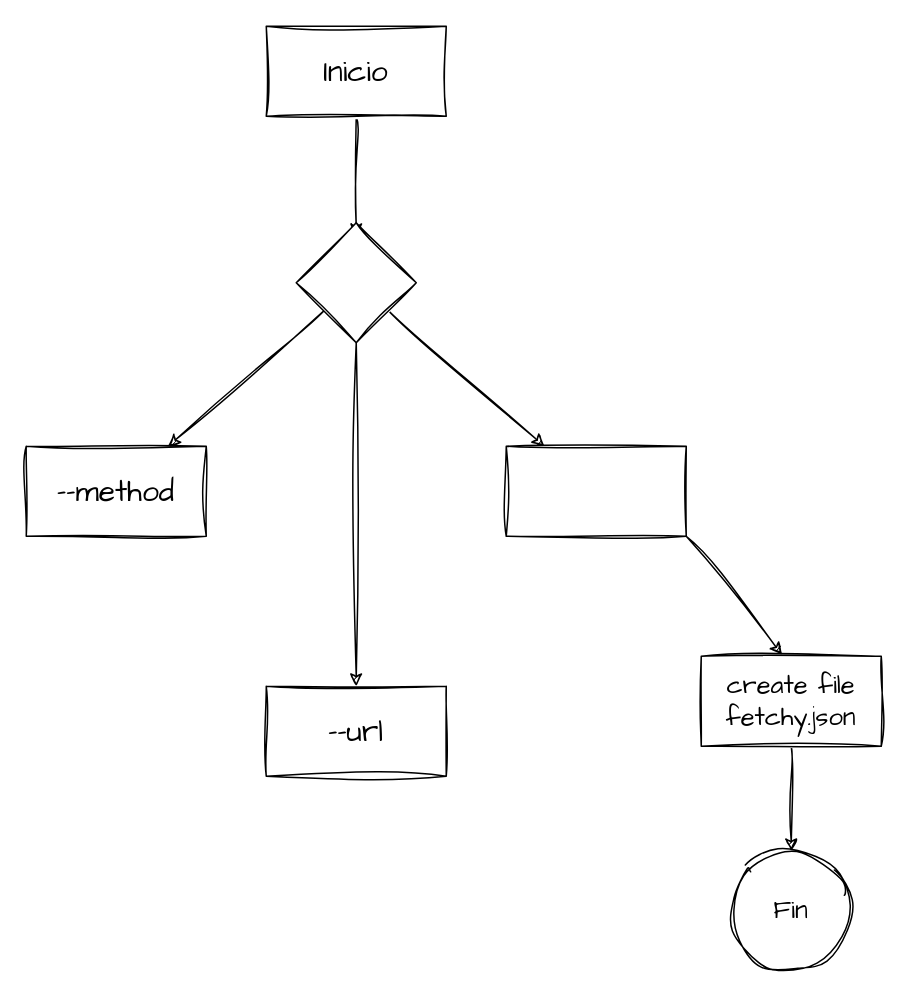
Image size: 908x998. Some labels were removed from this diagram. Here are the shapes that lost their labels. From the top down, the box of each, then its label:
(295, 221, 416, 343): options
(505, 445, 686, 536): --config
